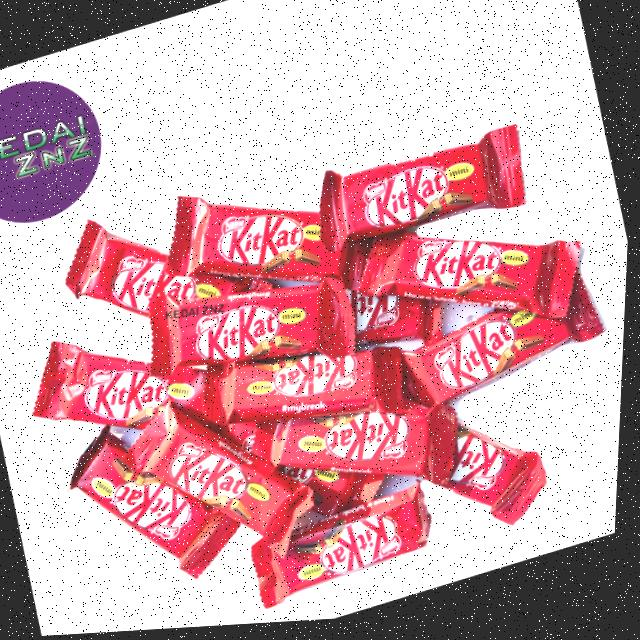kitkat: (118, 361, 335, 599), (349, 187, 604, 375), (167, 151, 390, 342), (62, 406, 262, 617), (179, 304, 423, 472), (144, 248, 371, 414), (68, 179, 257, 361), (272, 362, 474, 523), (19, 300, 217, 463), (385, 283, 608, 419), (315, 128, 530, 255), (244, 475, 442, 612)
